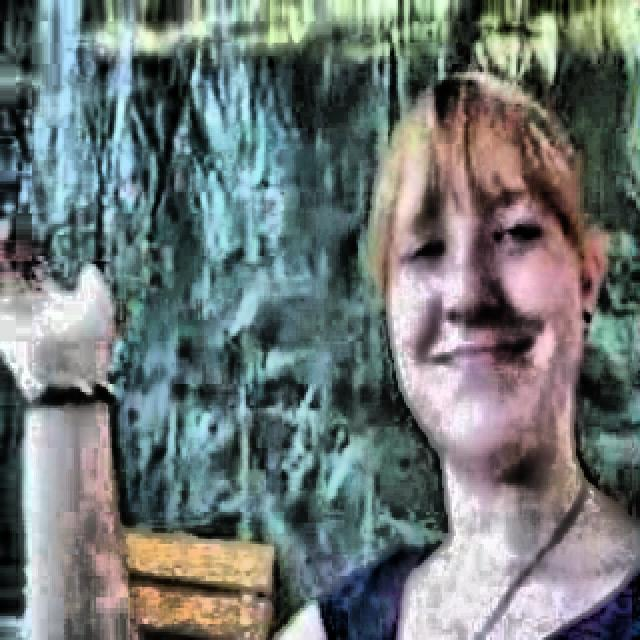T: (6, 62, 634, 623)
